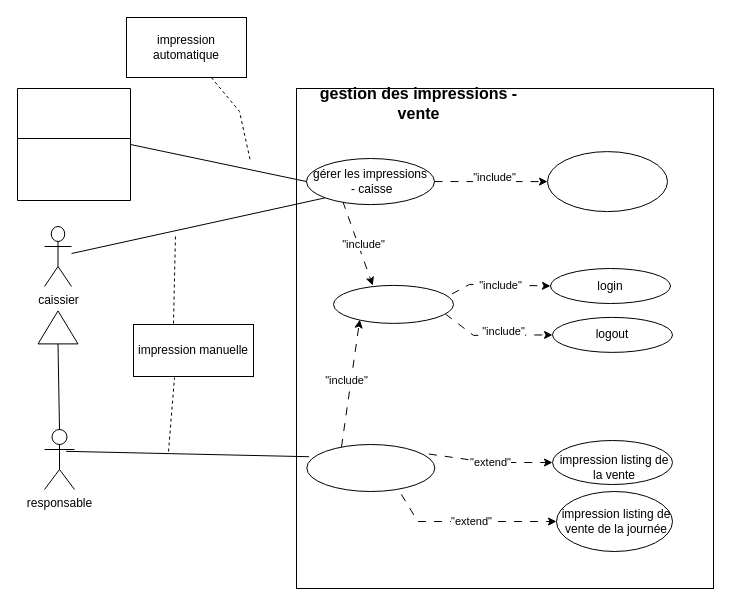
Some shapes in this 731 by 606 pixel diagram are drawn without their labels. Here are the shapes that lost their labels. From the top down, the centre of each, then its label:
(73,144): logiciel de vente - caisse
(607,181): impression ticket de caisse
(393,303): authentifier
(370,468): gérer les impressions - comptabilité
